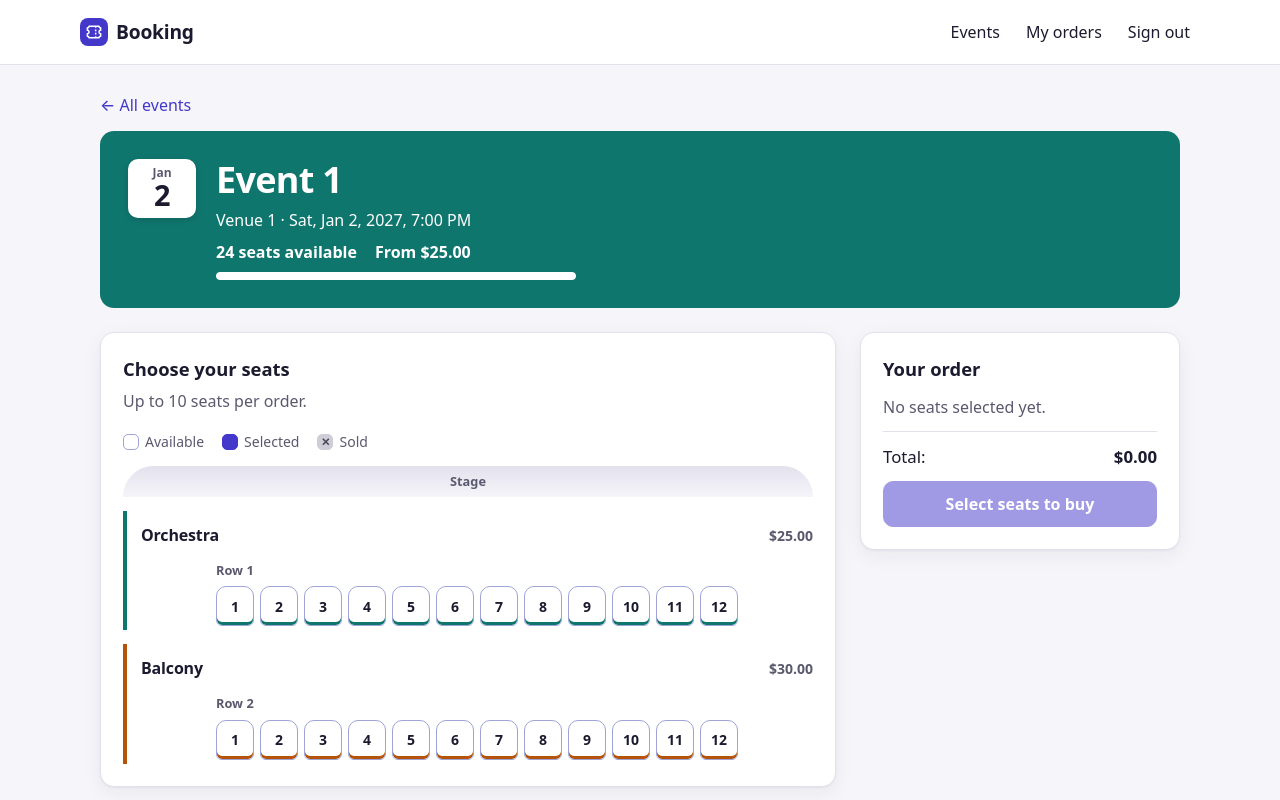
Test: EventPage › recovers when someone else takes your seat first
Click the button named "Seat R1-1,".
click(235, 606)  # box [216,586,254,626]
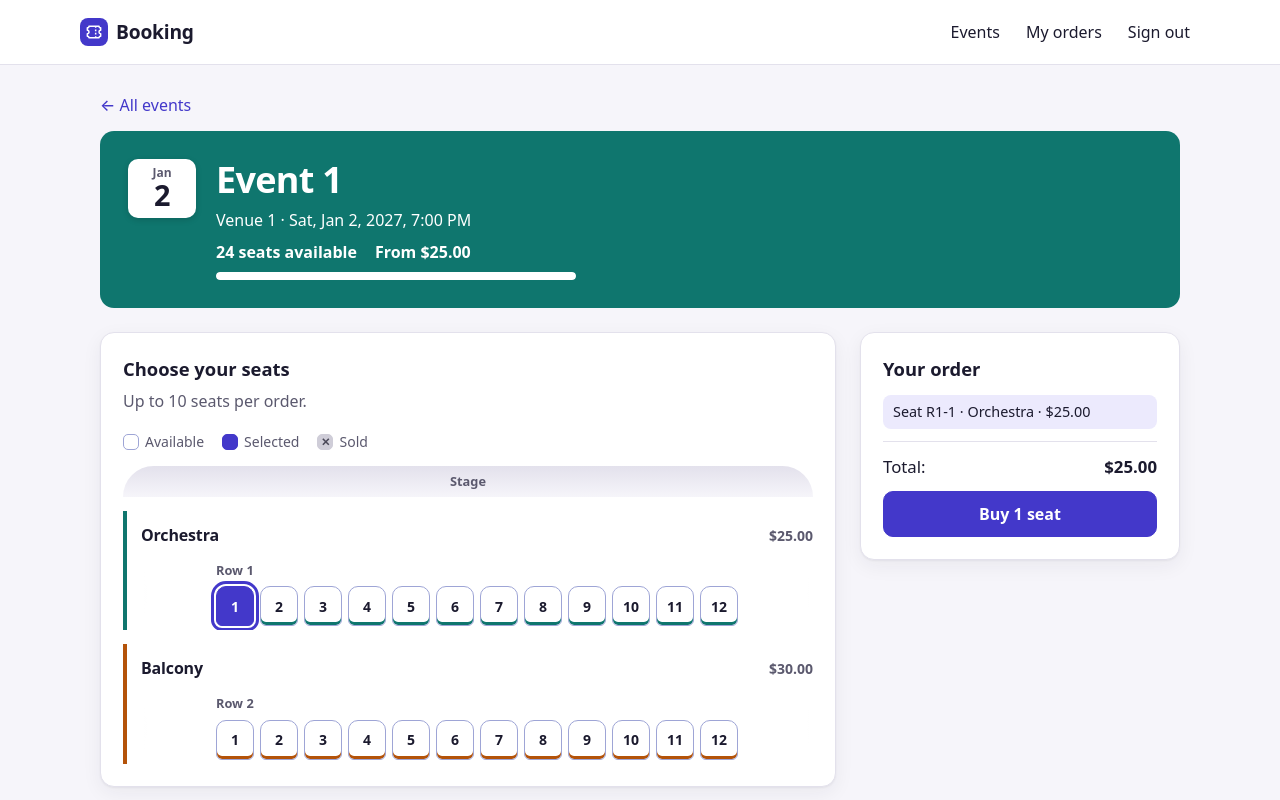
Click the button "Buy 1 seat".
click(1020, 514)  # box [883,491,1157,537]
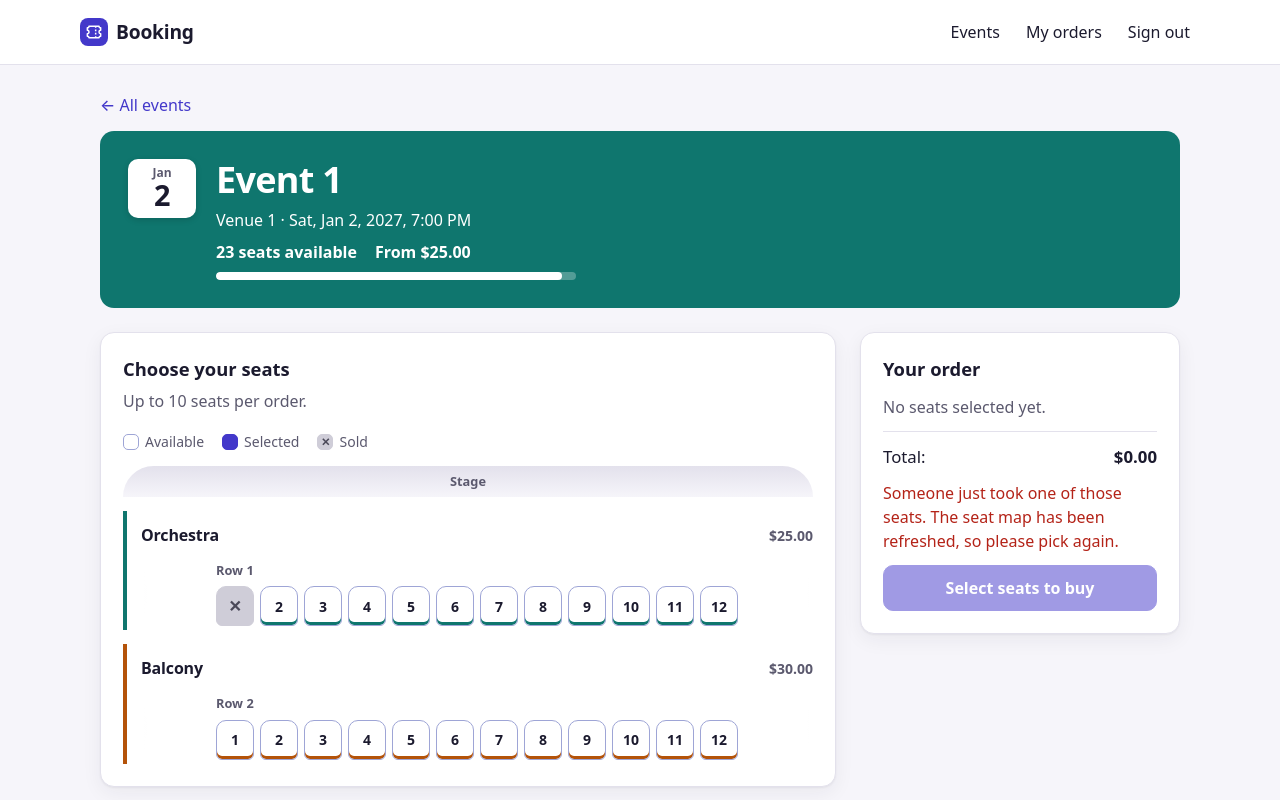
Now the message shows "Someone just took", box [883,482,1122,552]
Now the text with test id "order-total" reads "$0.00", box [1114,445,1157,468]
Now the picture named "Seat R1-1, sold" is shown, box [216,586,254,626]
